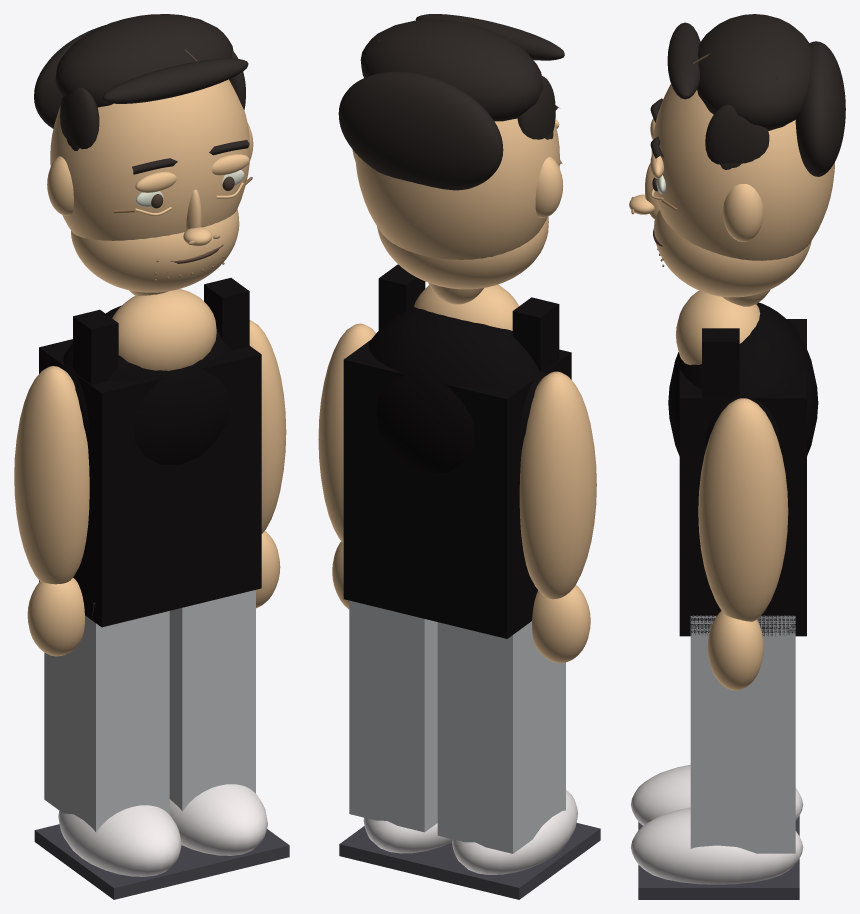
The model's file is Gareth Williams - Tank Top.glb.
The picture shows the model from 3 angles, left to right: view 1: azimuth 30°, elevation 25°; view 2: azimuth 150°, elevation 25°; view 3: azimuth 270°, elevation 25°; orthographic projection. The views are drawn at different scales.
Visible parts, largest first — view 1: Rigged Resistance tank top, LeftLeg, Head, RightLeg, LeftArm, Buzz cut, RightArm; view 2: Rigged Resistance tank top, LeftLeg, Buzz cut, RightLeg, Head, LeftArm, RightArm; view 3: RightLeg, Rigged Resistance tank top, Head, Buzz cut, RightArm, LeftLeg.
Boxes of the visible parts, box(x1,y1,x2,y2) form: Rigged Resistance tank top: box(39, 278, 261, 627); LeftLeg: box(34, 603, 203, 899); Head: box(47, 79, 253, 295); RightLeg: box(169, 590, 289, 877); LeftArm: box(14, 366, 89, 656); Buzz cut: box(34, 14, 248, 150); RightArm: box(249, 320, 286, 608); Rigged Resistance tank top: box(343, 264, 571, 638); LeftLeg: box(427, 621, 600, 899); Buzz cut: box(338, 14, 564, 190); RightLeg: box(339, 600, 452, 878); Head: box(352, 105, 562, 304); LeftArm: box(519, 371, 596, 662); RightArm: box(318, 323, 375, 609); RightLeg: box(631, 615, 803, 899); Rigged Resistance tank top: box(668, 290, 818, 636); Head: box(629, 84, 834, 306); Buzz cut: box(667, 14, 845, 176); RightArm: box(698, 398, 788, 690); LeftLeg: box(631, 764, 803, 835).
Bounding box in the file's own units: 0.81 × 2.45 × 0.5779.
